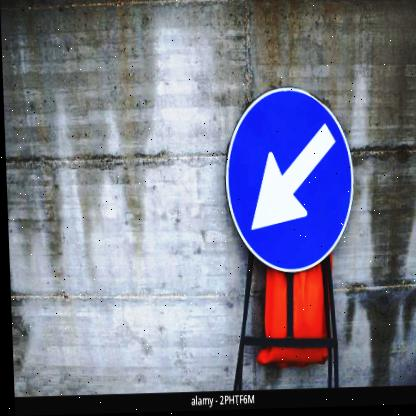Keep left: (221, 79, 360, 277)
